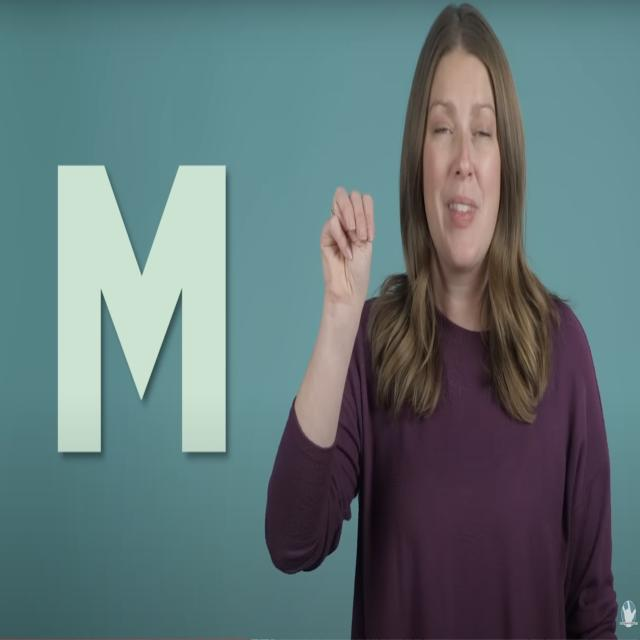M: (304, 172, 386, 304)
